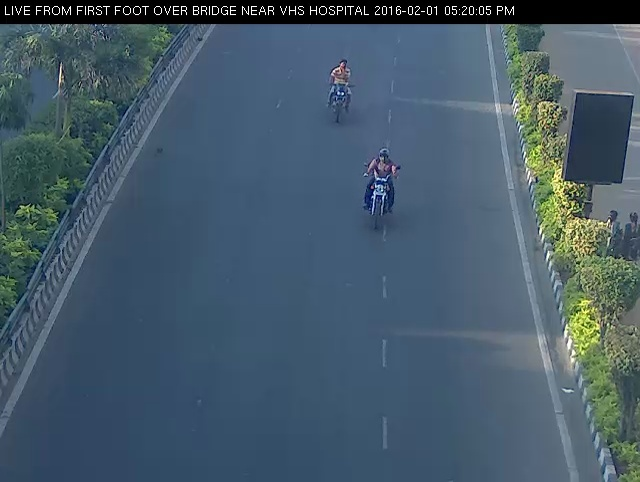Person: (357, 137, 406, 234), (320, 53, 361, 130)
